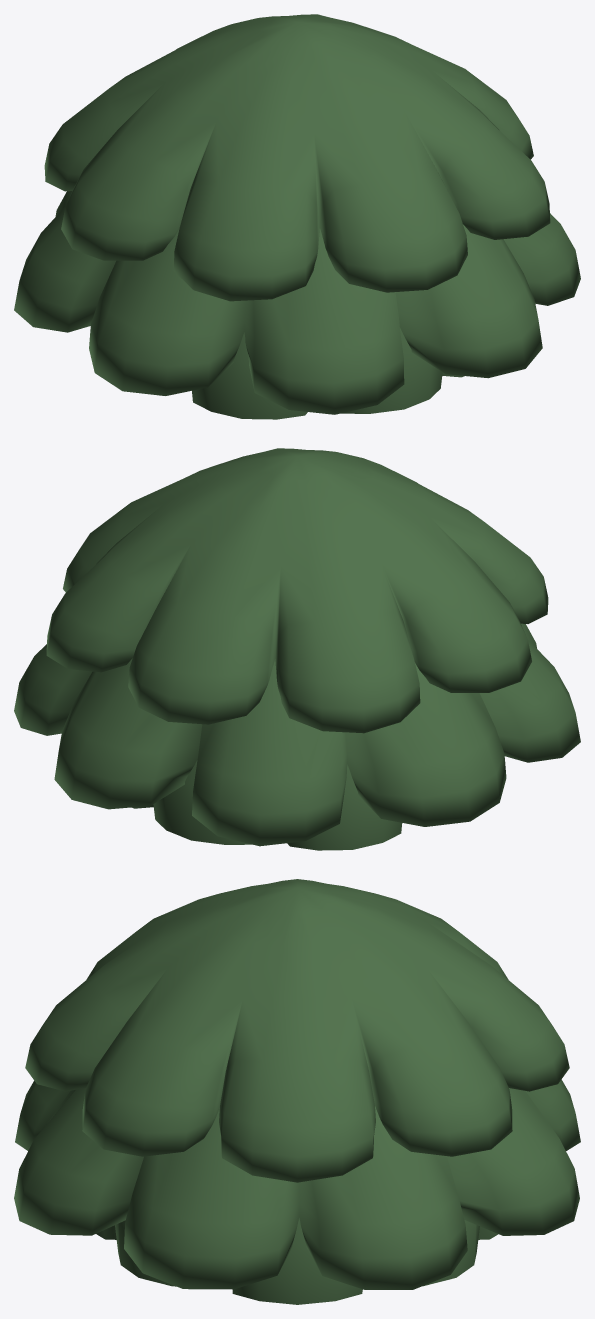
The model's file is Bush.glb.
3 views of the same model, one above another, from view 1: azimuth 30°, elevation 25°; view 2: azimuth 150°, elevation 25°; view 3: azimuth 270°, elevation 25° (orthographic). The views are drawn at different scales.
Visible parts, largest first — view 1: Bush; view 2: Bush; view 3: Bush.
Boxes of the visible parts, x1,y1,x2,y2 form: Bush: [14, 14, 580, 419]; Bush: [14, 448, 580, 850]; Bush: [14, 879, 580, 1304].
Bounding box in the file's own units: 3.52 × 2.23 × 3.53.
